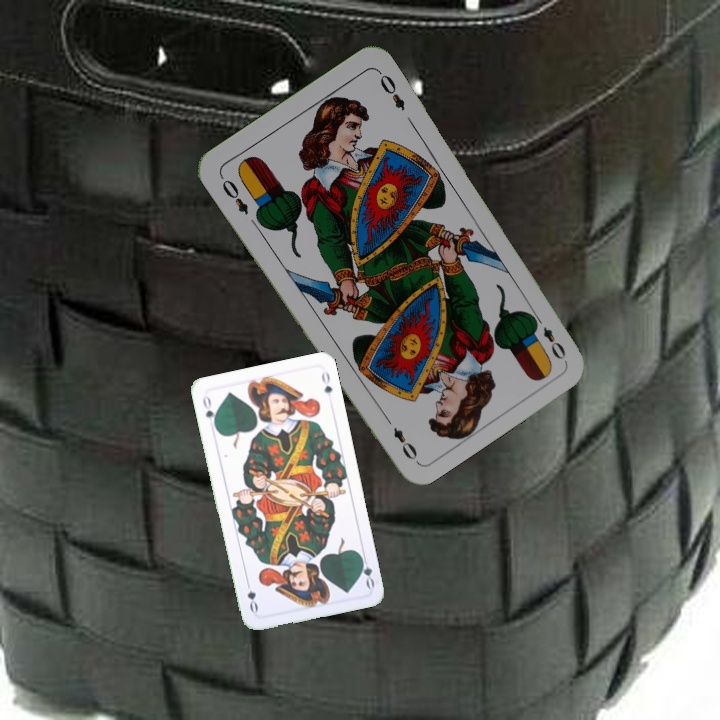EO: (529, 310, 569, 363), (216, 171, 252, 218)
GO: (356, 550, 377, 591), (199, 391, 219, 431)
